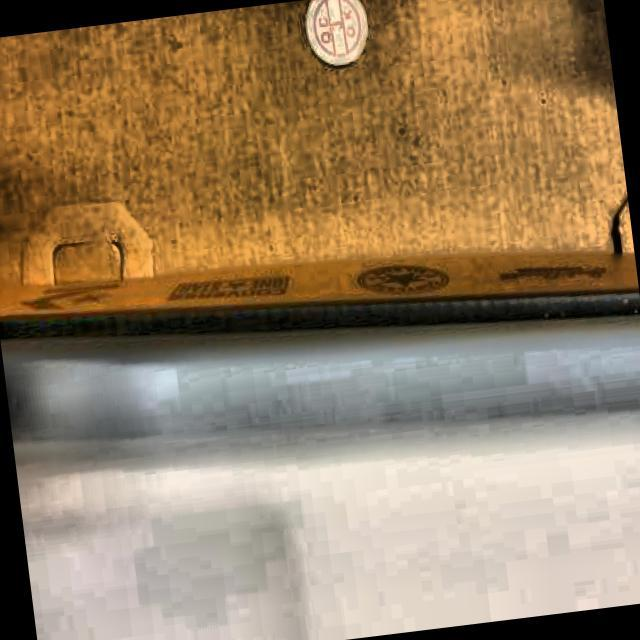cardboard: (0, 0, 640, 389)
